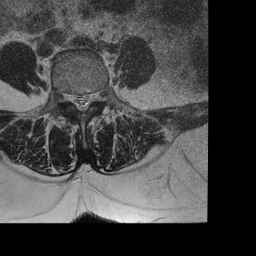CCS_normal: (78, 85, 85, 121)
LFS_normal: (92, 83, 101, 110)
LLS_normal: (85, 84, 92, 115)
RFS_normal: (62, 82, 70, 111)
RLS_normal: (70, 86, 78, 115)
